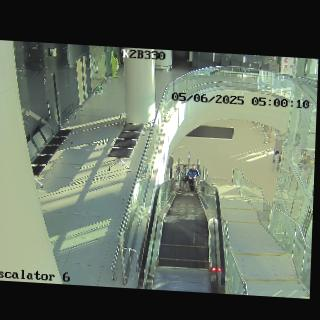normal: (187, 163, 200, 192), (179, 165, 189, 191), (273, 151, 281, 173)
